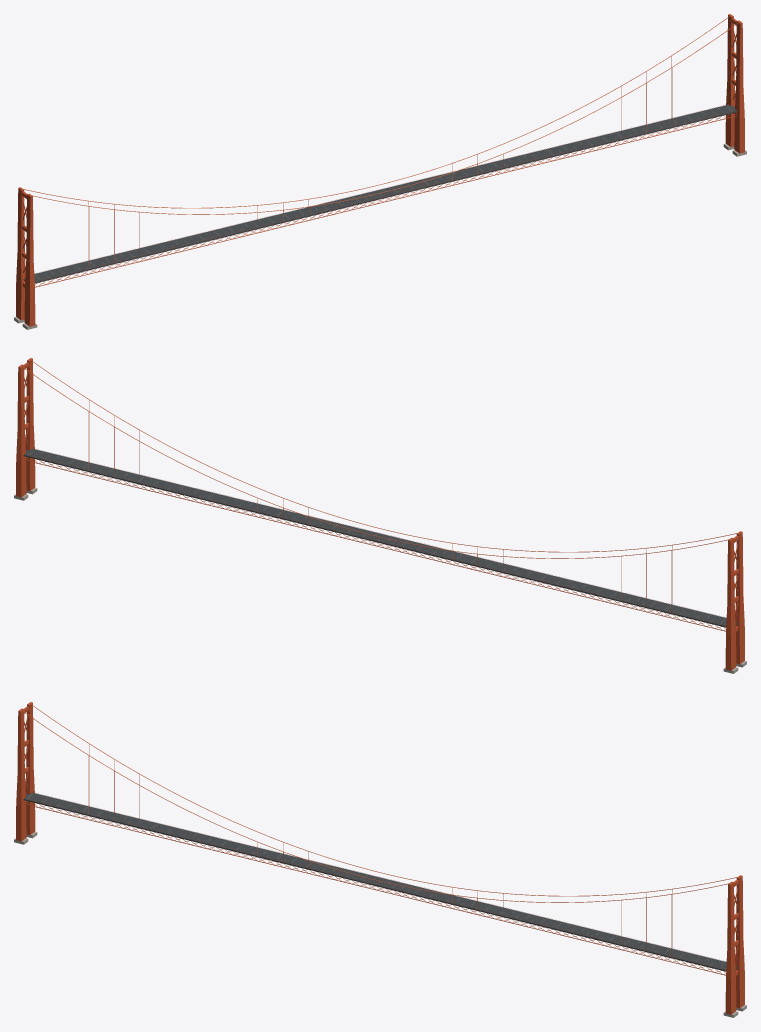
The model's file is earth3d2-golden-gate-main-span.glb.
3 views of the same model, one above another, from view 1: azimuth 30°, elevation 25°; view 2: azimuth 150°, elevation 25°; view 3: azimuth 330°, elevation 25° (orthographic).
Parts seen in each view (by area): view 1: Road surface, International Orange, illustrative paint, Painted main cables and suspenders; view 2: Road surface, International Orange, illustrative paint, Painted main cables and suspenders; view 3: Road surface, International Orange, illustrative paint, Painted main cables and suspenders.
Part boxes in pixels (x1,y1,x2,y2): Road surface: [23, 104, 737, 283]; International Orange, illustrative paint: [16, 14, 744, 326]; Painted main cables and suspenders: [23, 16, 739, 268]; Road surface: [23, 448, 737, 627]; International Orange, illustrative paint: [16, 358, 744, 670]; Painted main cables and suspenders: [21, 360, 737, 612]; Road surface: [23, 792, 737, 971]; International Orange, illustrative paint: [16, 702, 744, 1014]; Painted main cables and suspenders: [21, 704, 737, 956].
Bounding box in the file's own units: 1298 × 228 × 43.4.
